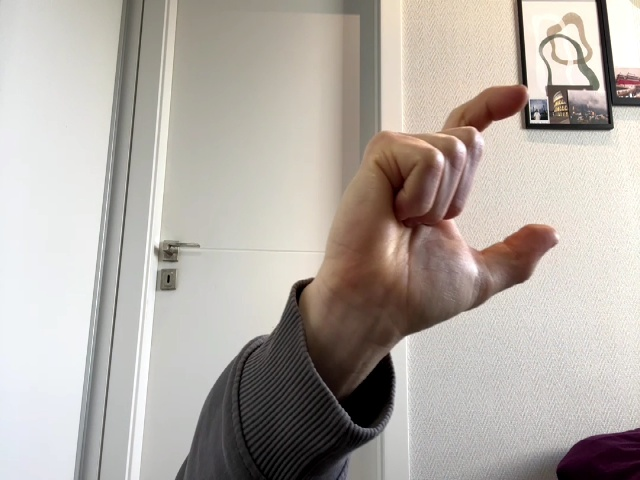C: (321, 85, 559, 334)
